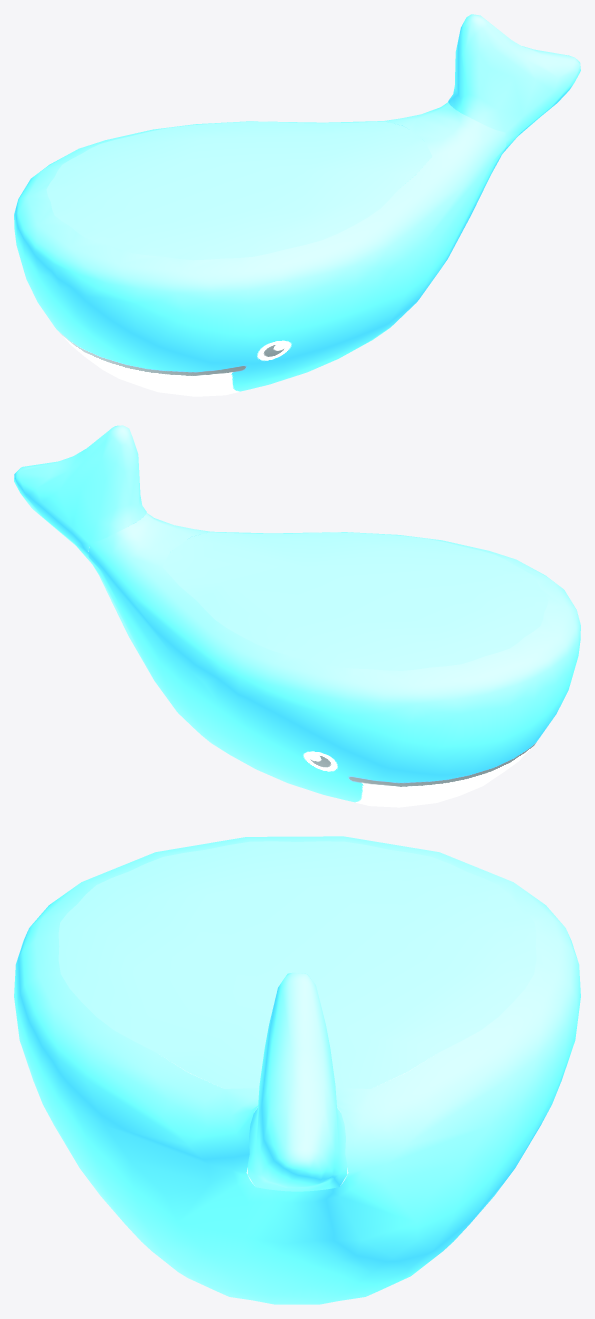
The model's file is whale_optimized.glb.
The picture shows the model from 3 angles, top to bottom: view 1: azimuth 30°, elevation 25°; view 2: azimuth 150°, elevation 25°; view 3: azimuth 270°, elevation 25°; orthographic projection. The views are drawn at different scales.
Visible parts, largest first — view 1: Sphere; view 2: Sphere; view 3: Sphere.
Boxes of the visible parts, x1,y1,x2,y2 form: Sphere: [14, 14, 580, 396]; Sphere: [14, 425, 580, 807]; Sphere: [14, 836, 580, 1304].
Bounding box in the file's own units: 8.83 × 4.72 × 5.21.
